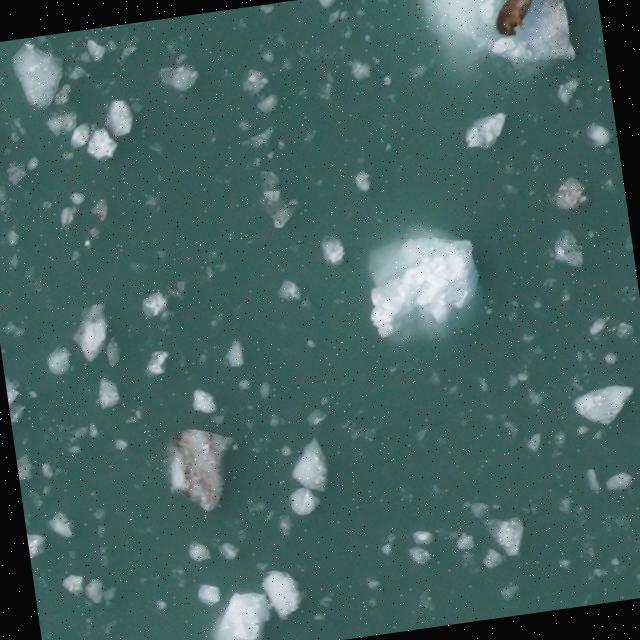seal: (486, 0, 554, 42)
